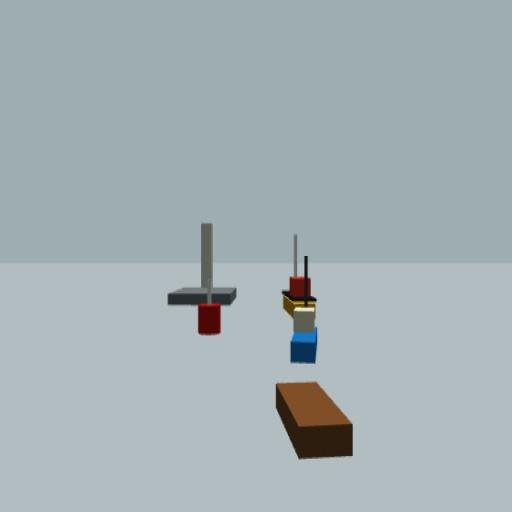debris_container: (275, 380, 355, 462)
fishing_boat: (290, 256, 317, 364)
floating_obstacle: (198, 281, 220, 335)
platform: (168, 224, 235, 306)
vessel: (280, 235, 315, 315)
